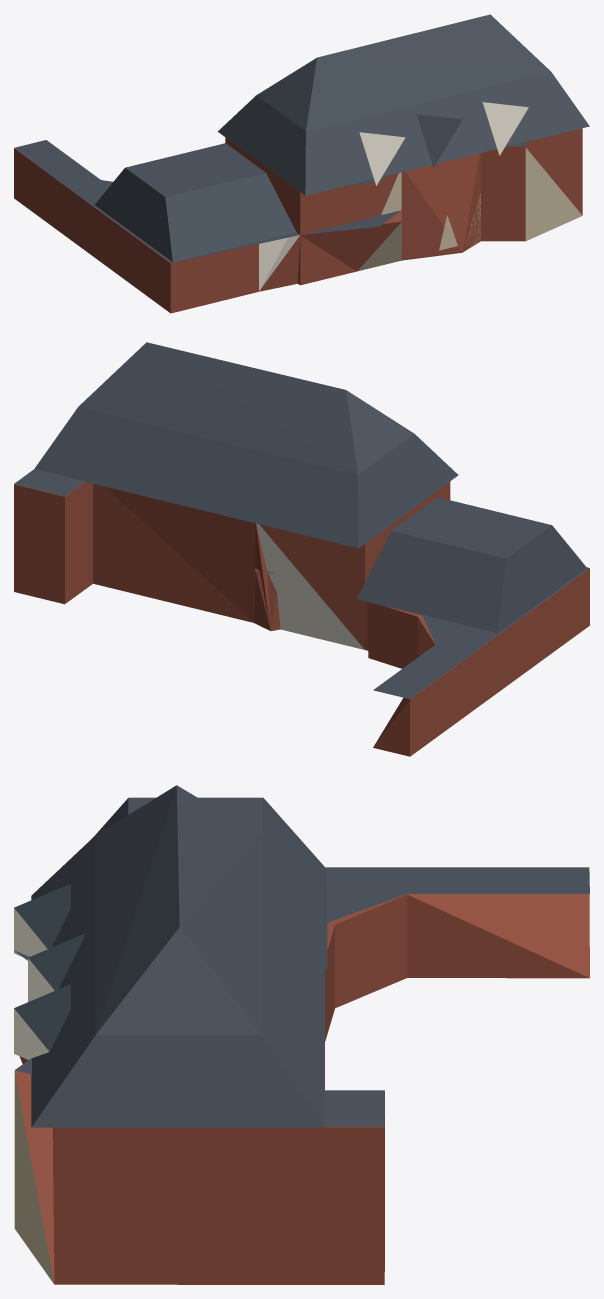
The model's file is haarlemmermeerstation.lod2.glb.
The picture shows the model from 3 angles, top to bottom: view 1: azimuth 30°, elevation 25°; view 2: azimuth 150°, elevation 25°; view 3: azimuth 270°, elevation 25°; orthographic projection. The views are drawn at different scales.
Parts seen in each view (by area): view 1: lod2; view 2: lod2; view 3: lod2.
Part boxes in pixels (<box>): lod2: <box>14,14,589,313</box>; lod2: <box>14,342,589,756</box>; lod2: <box>14,785,589,1284</box>.
Bounding box in the file's own units: 33.38 × 14.6 × 24.35.
